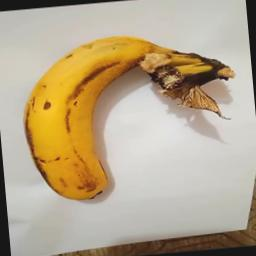Banana Unripe: (14, 24, 248, 206)
